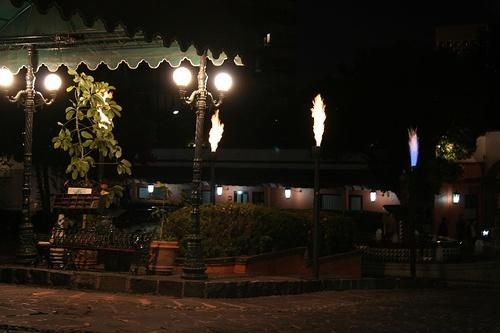pottedplant: (52, 68, 134, 195), (145, 207, 181, 277)
